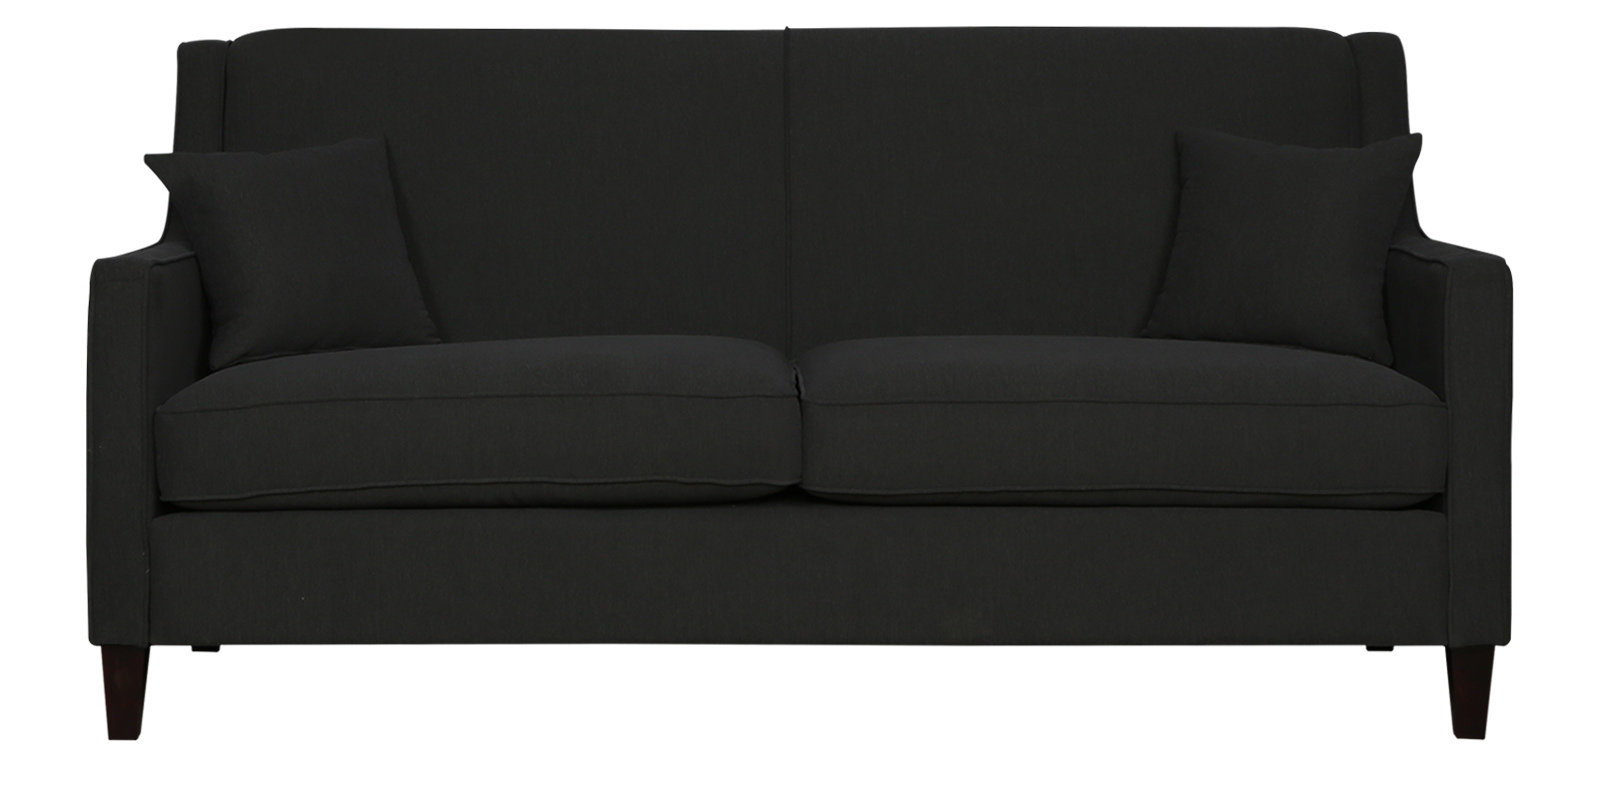Oscar Three Seater Sofa in Charcoal Grey Colour by CasaCraft: (84, 29, 1511, 741)
